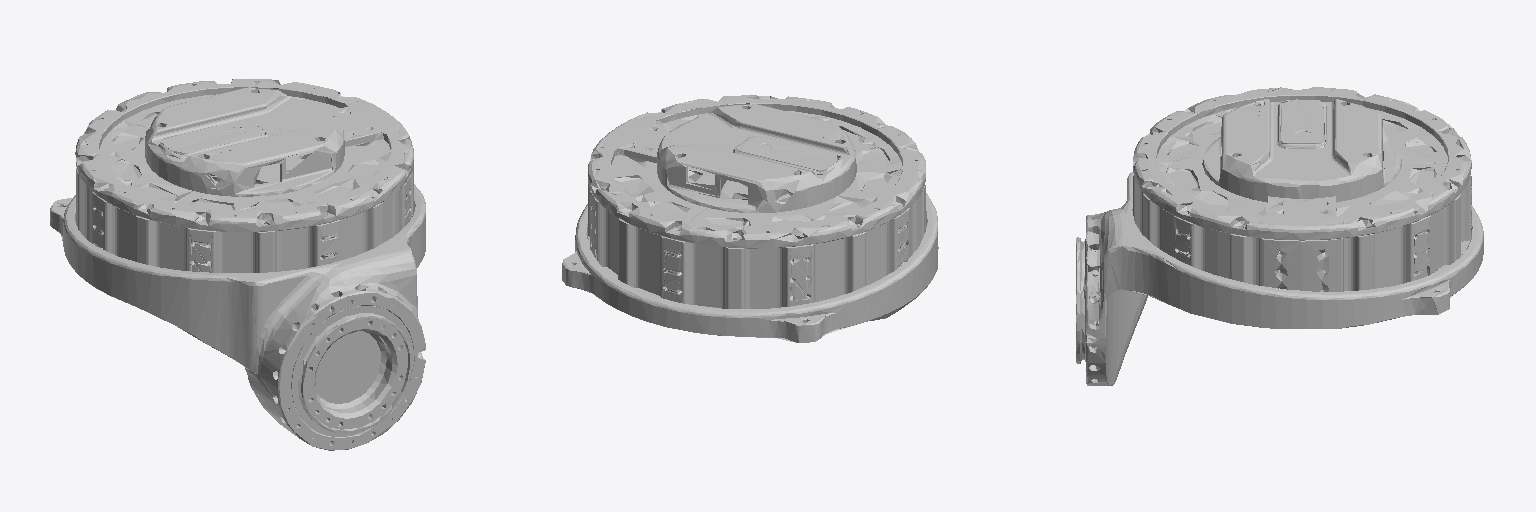
The model's file is left_thigh_yaw_link.obj.
The picture shows the model from 3 angles: view 1: azimuth 30°, elevation 25°; view 2: azimuth 150°, elevation 25°; view 3: azimuth 270°, elevation 25°; orthographic projection.
Visible parts, largest first — view 1: left_thigh_yaw_link; view 2: left_thigh_yaw_link; view 3: left_thigh_yaw_link.
Part boxes in pixels (left/top/right/bottom): left_thigh_yaw_link: left=50, top=79, right=425, bottom=450; left_thigh_yaw_link: left=562, top=95, right=938, bottom=342; left_thigh_yaw_link: left=1076, top=87, right=1483, bottom=385.
Bounding box in the file's own units: 0.18 × 0.1338 × 0.202.